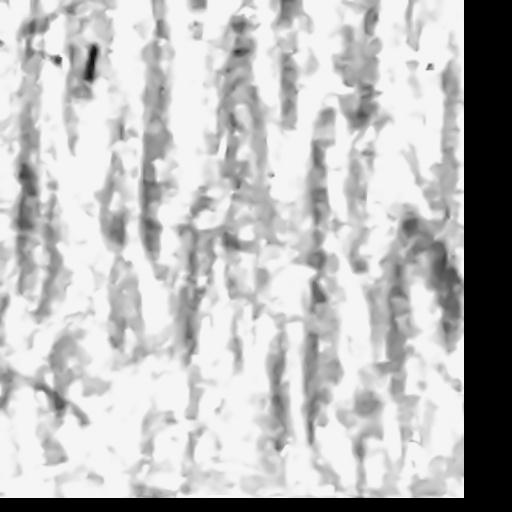egg: (83, 43, 98, 82)
